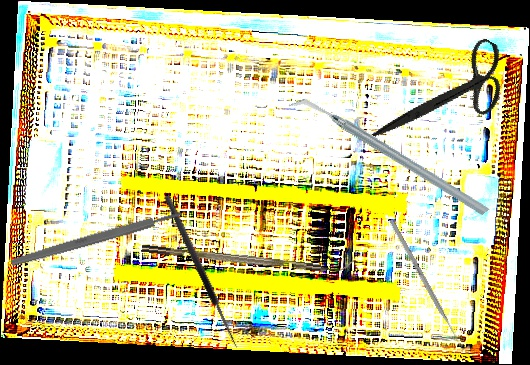Chopper: (287, 43, 492, 271), (141, 234, 354, 278)
Hook Surgical: (162, 190, 249, 350)
Iris Scissors: (370, 12, 522, 180)
Pusher: (388, 219, 464, 348)
Scalpel Handle: (9, 208, 184, 269)
